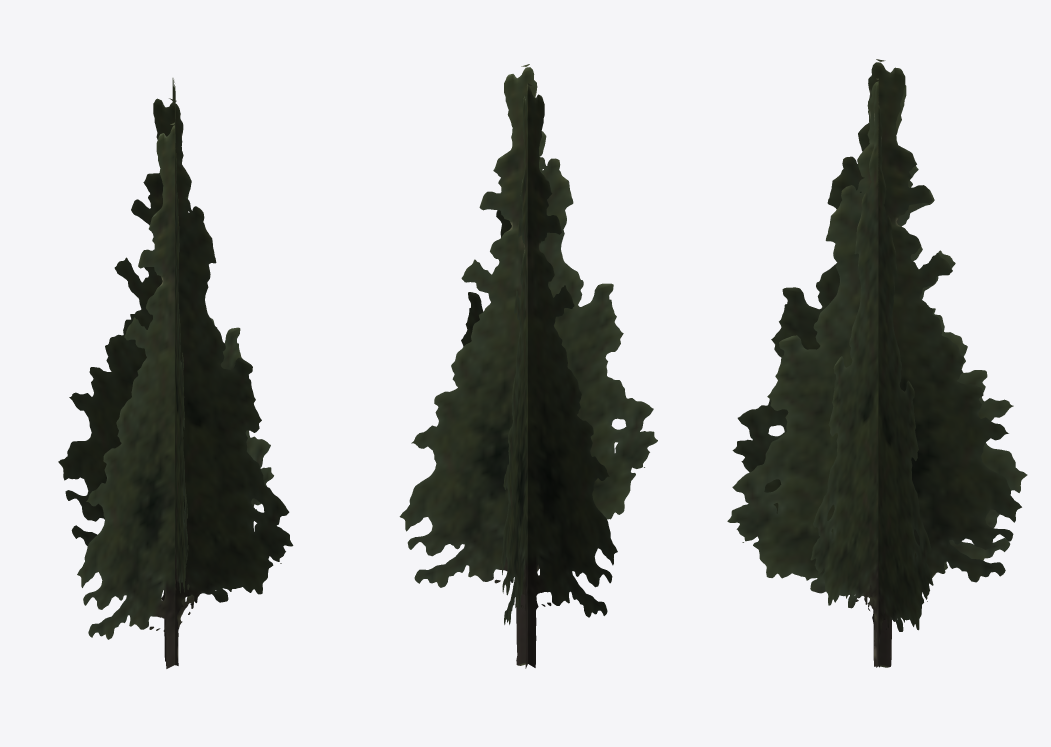
Rendered from small_tree_rt_1.dae.
3 renders of one model, left to right at view 1: azimuth 30°, elevation 25°; view 2: azimuth 150°, elevation 25°; view 3: azimuth 270°, elevation 25°, orthographic. The views are drawn at different scales.
Parts seen in each view (by area): view 1: small_tree_rt_1; view 2: small_tree_rt_1; view 3: small_tree_rt_1.
Part boxes in pixels (<box>): small_tree_rt_1: <box>58,78,293,668</box>; small_tree_rt_1: <box>399,64,657,668</box>; small_tree_rt_1: <box>727,59,1027,667</box>.
Size of the model in its own units: 0.5779 by 0.5779 by 1.22.
1 material, 1 textured.
